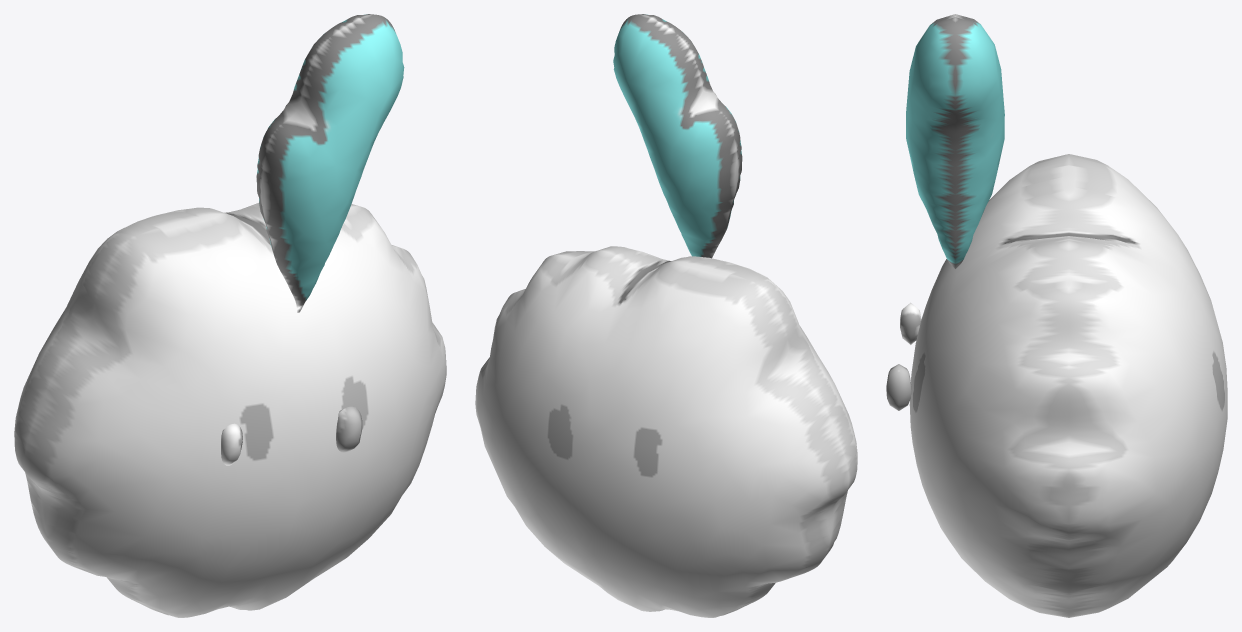
File: asset.glb
The picture shows the model from 3 angles, left to right: view 1: azimuth 30°, elevation 25°; view 2: azimuth 150°, elevation 25°; view 3: azimuth 270°, elevation 25°; orthographic projection. The views are drawn at different scales.
Size of the model in its own units: 1.96 by 2.79 by 1.38.
1 material, 1 textured.
